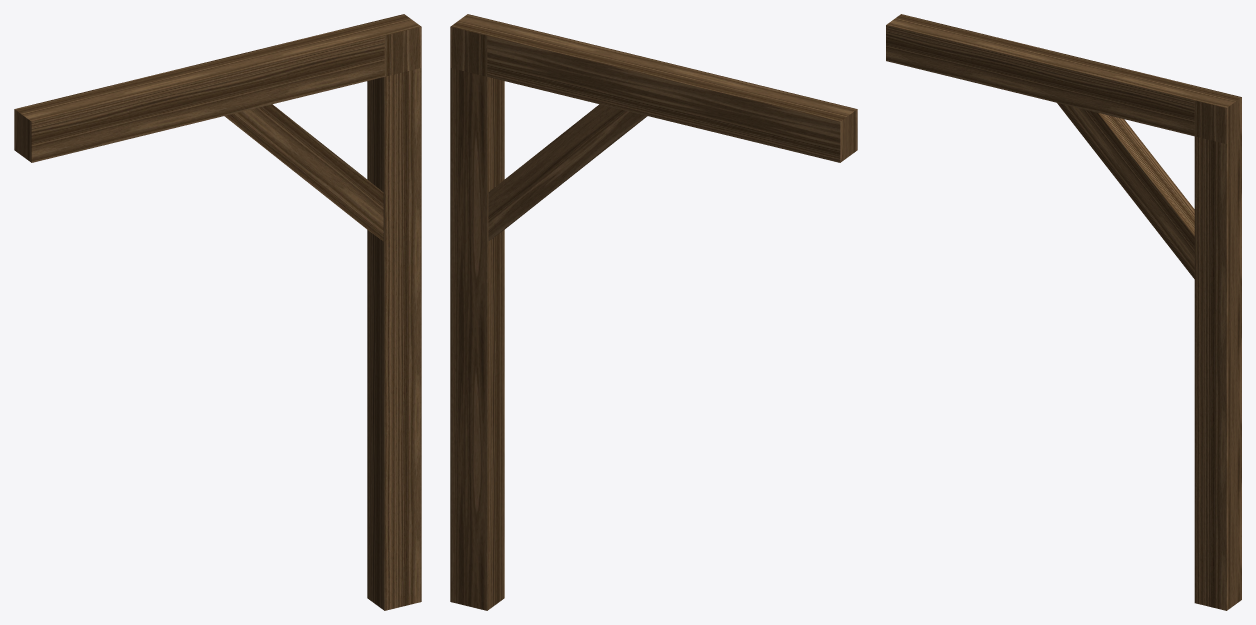
The model's file is Wooden 06.glb.
3 renders of one model, left to right at view 1: azimuth 30°, elevation 25°; view 2: azimuth 150°, elevation 25°; view 3: azimuth 330°, elevation 25°, orthographic. The views are drawn at different scales.
Visible parts, largest first — view 1: Wooden_06; view 2: Wooden_06; view 3: Wooden_06.
Boxes of the visible parts, left/top/right/bottom form: Wooden_06: left=14, top=14, right=421, bottom=610; Wooden_06: left=450, top=14, right=857, bottom=610; Wooden_06: left=886, top=14, right=1241, bottom=610.
Bounding box in the file's own units: 0.8397 × 1.18 × 0.0646.
1 material, 1 textured.
